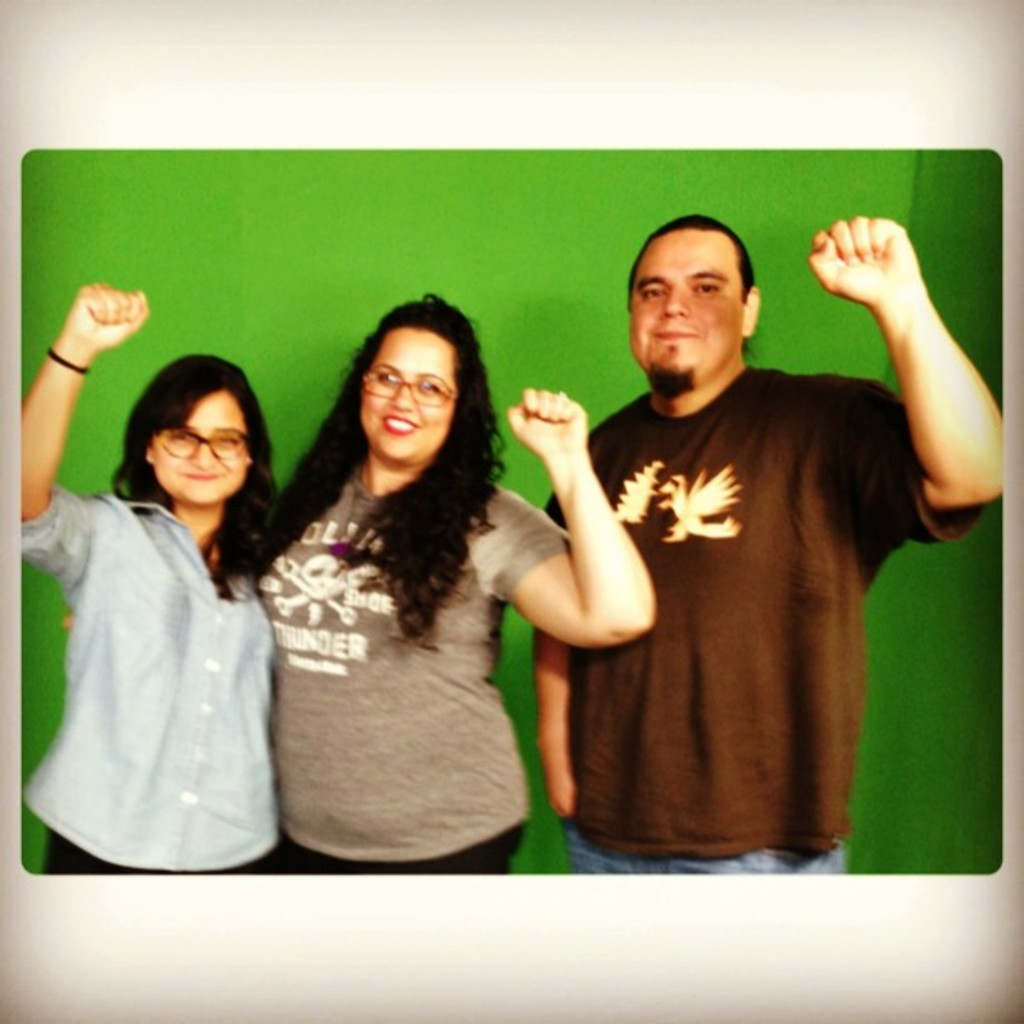Human-face: (634, 231, 741, 380), (363, 328, 453, 455), (149, 388, 248, 499)
